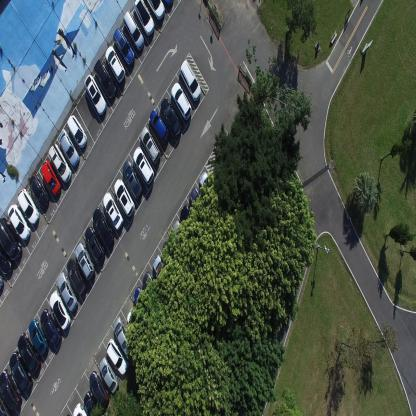car: (8, 350, 32, 394), (47, 143, 72, 183), (0, 216, 22, 261), (159, 96, 182, 139), (93, 58, 116, 100), (17, 332, 40, 374), (180, 58, 202, 101), (84, 74, 106, 117), (122, 10, 144, 52), (112, 27, 134, 68), (48, 290, 70, 331), (171, 80, 192, 122), (132, 145, 154, 185), (58, 128, 80, 168), (7, 204, 31, 240), (92, 206, 113, 247), (57, 272, 78, 313), (74, 242, 96, 281), (113, 176, 134, 216), (113, 316, 133, 358), (40, 308, 61, 348), (0, 369, 21, 409), (17, 188, 39, 226), (103, 191, 123, 232), (140, 126, 161, 165), (106, 338, 128, 375), (132, 0, 154, 37), (105, 44, 125, 84), (66, 258, 87, 296), (179, 204, 201, 240), (28, 319, 49, 356), (89, 370, 109, 408), (40, 160, 61, 196), (29, 173, 50, 209), (122, 160, 141, 199), (84, 226, 104, 263), (99, 356, 118, 394), (67, 115, 87, 151), (148, 109, 169, 143), (189, 187, 209, 221), (199, 171, 218, 206), (152, 254, 171, 288), (142, 270, 160, 304), (132, 286, 151, 318), (126, 308, 145, 339), (172, 220, 191, 250), (84, 390, 102, 415), (146, 0, 165, 22), (0, 245, 13, 276), (73, 402, 88, 415), (162, 0, 173, 9), (0, 276, 4, 294)
